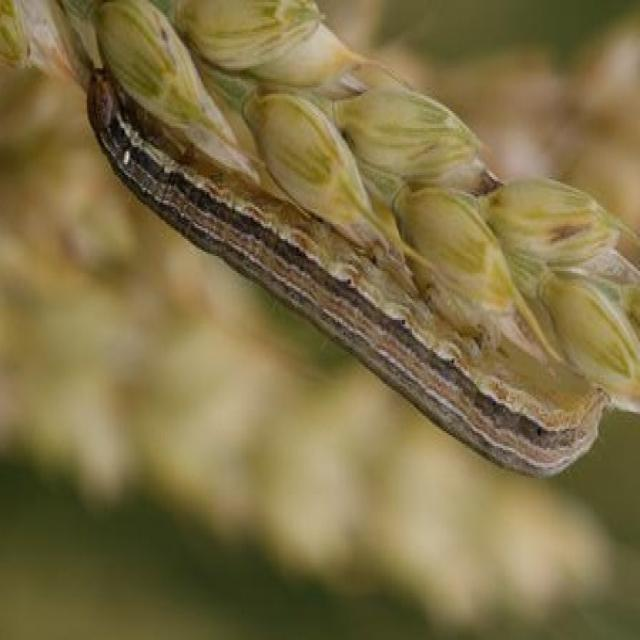army worm: (88, 53, 612, 482)
